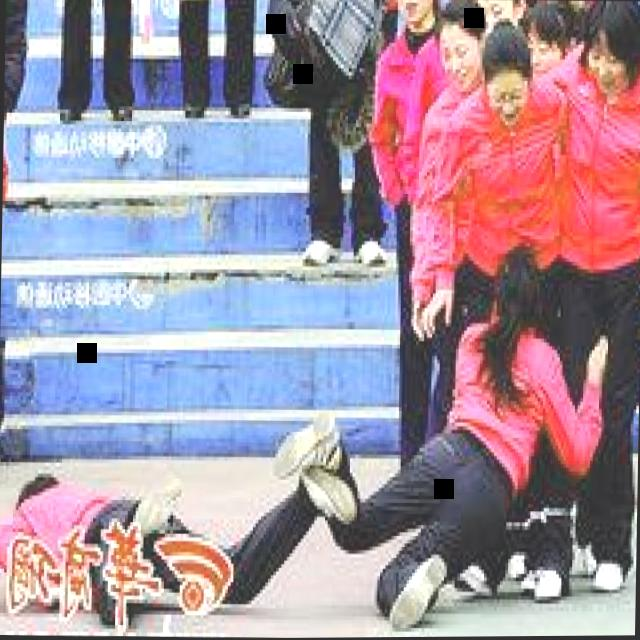Fall-Detected: (0, 378, 343, 629)
